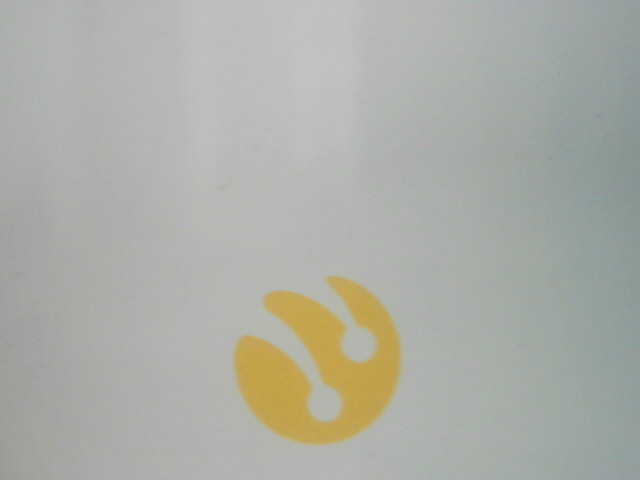AV_H3600Yellow: (217, 271, 417, 447)
